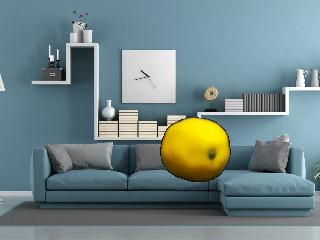lemon: (161, 119, 229, 182)
